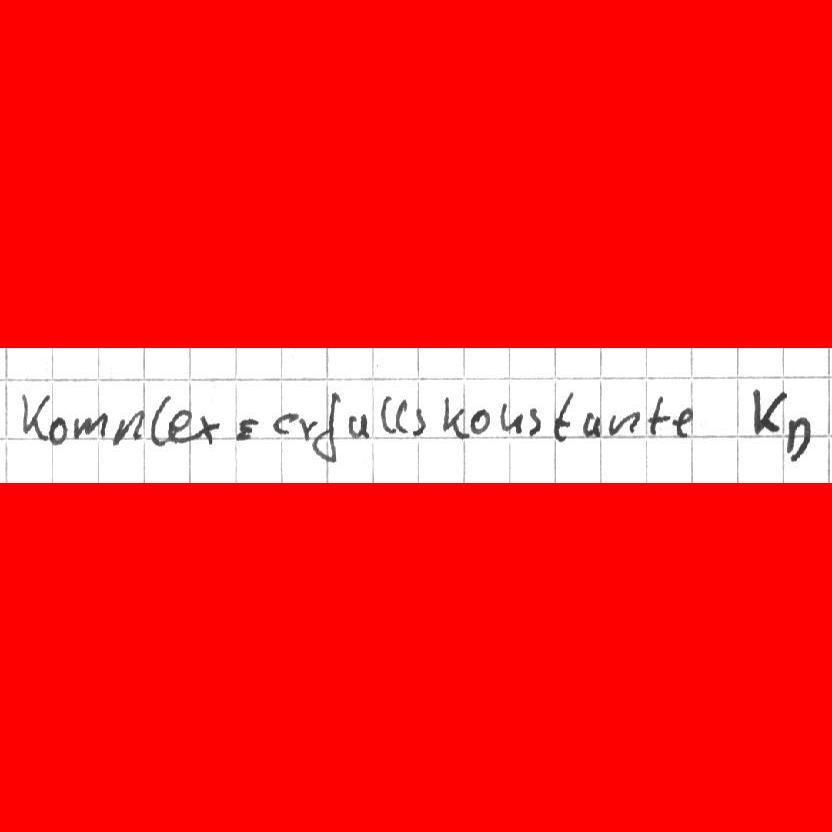Char: (750, 386, 788, 438), (314, 392, 341, 465), (783, 412, 814, 465), (146, 392, 174, 448), (20, 388, 50, 439), (111, 408, 146, 448), (551, 389, 575, 444), (441, 393, 466, 441), (73, 410, 106, 440), (167, 407, 193, 444), (190, 412, 218, 446), (647, 392, 669, 435), (605, 409, 636, 438), (499, 402, 521, 436), (672, 407, 694, 439), (233, 415, 261, 440), (394, 395, 410, 438), (377, 394, 394, 434), (469, 407, 490, 437), (349, 411, 371, 439), (581, 409, 601, 439), (273, 411, 296, 437), (526, 406, 544, 438), (298, 415, 319, 442), (410, 406, 425, 437), (50, 419, 67, 445)
